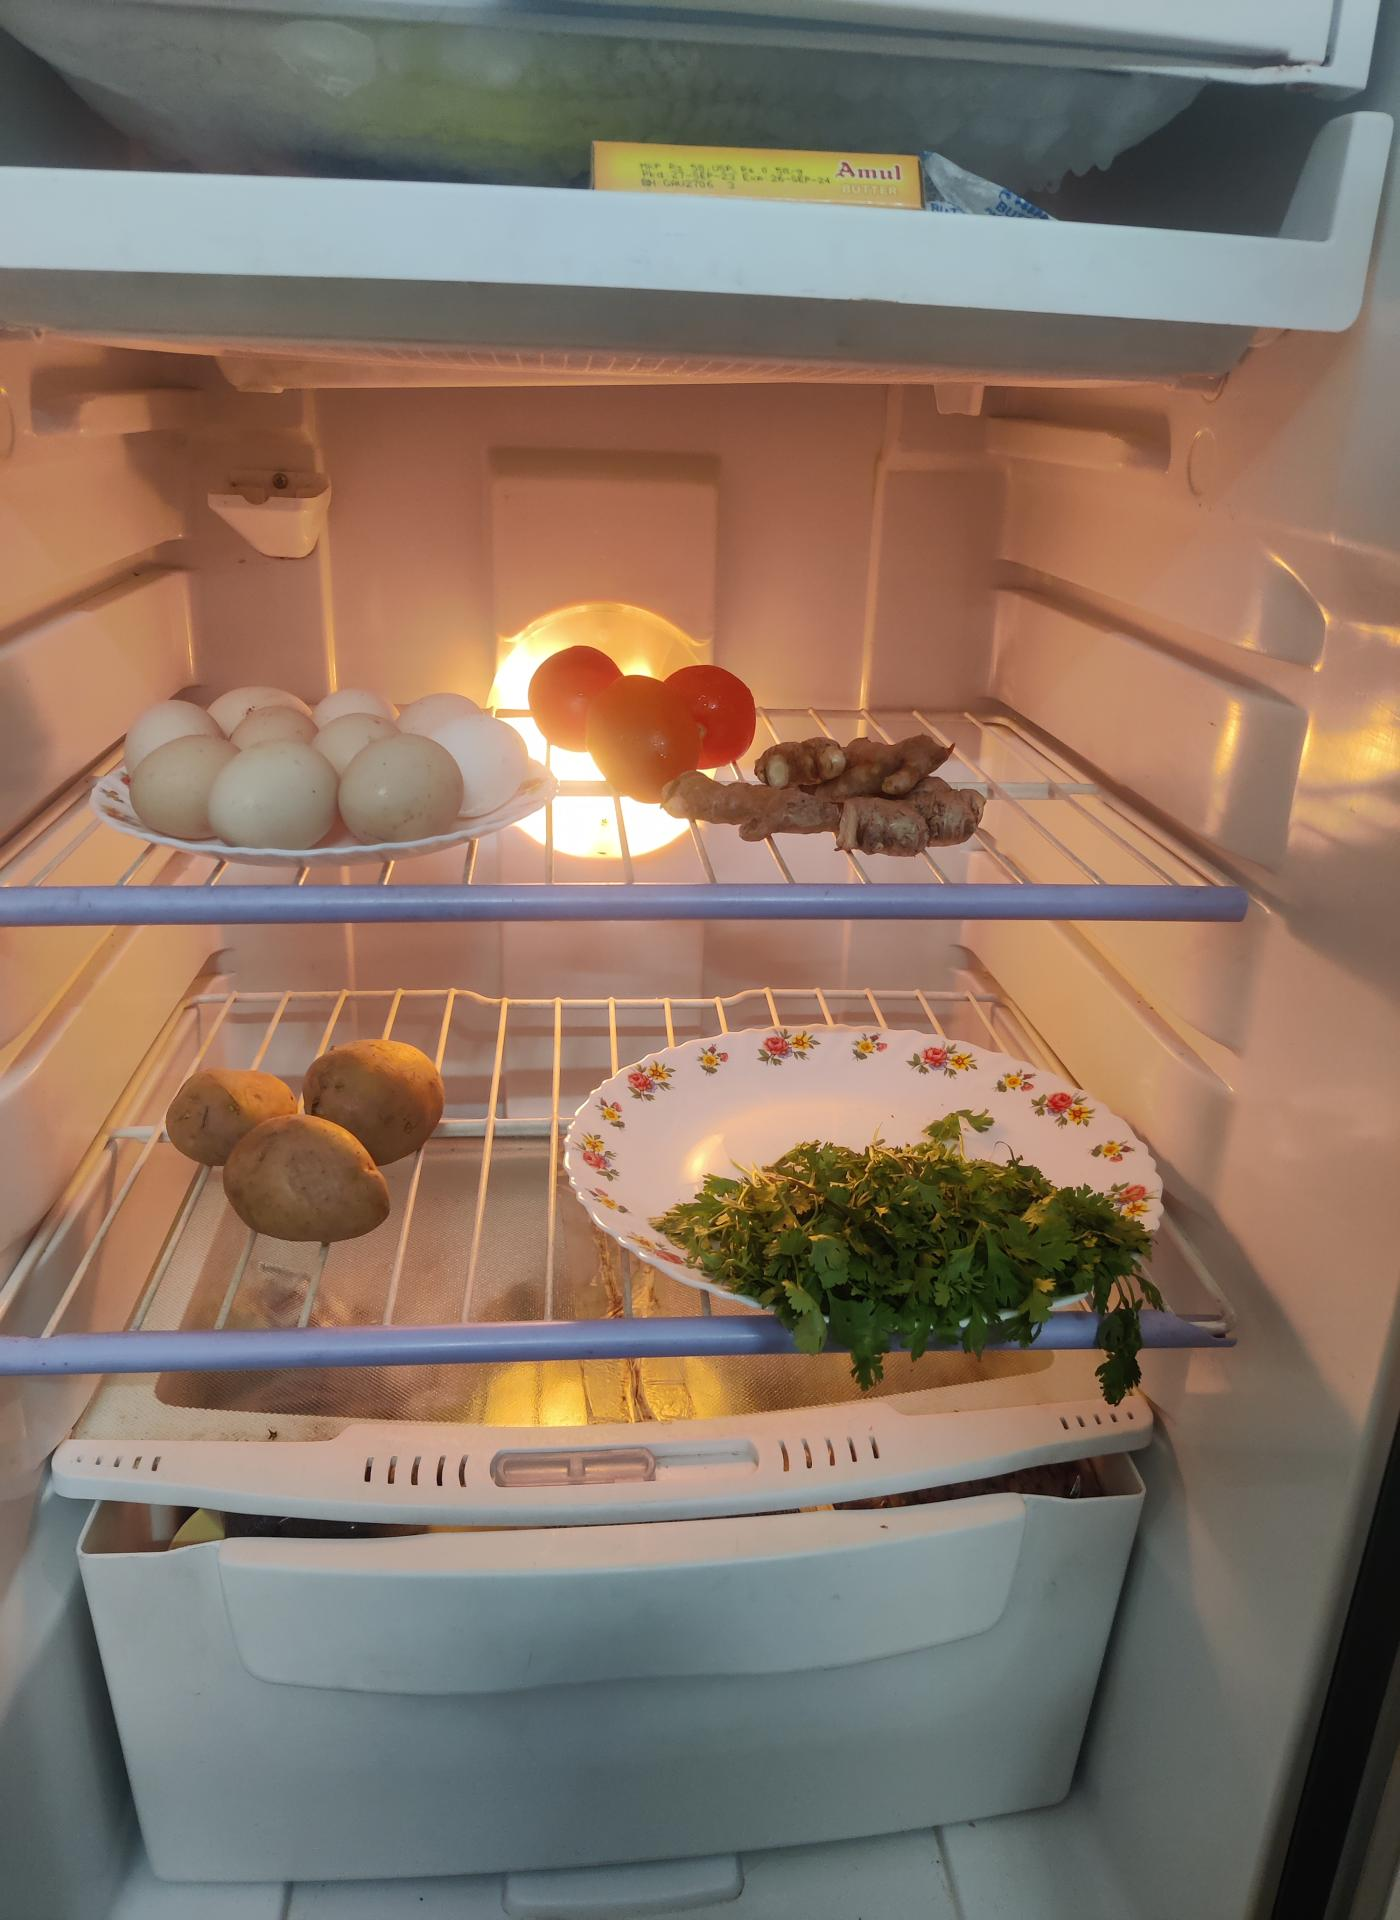coriander: (655, 1142, 1158, 1352)
egg: (124, 690, 534, 869)
ginger: (665, 723, 975, 851)
potato: (167, 1038, 444, 1248)
tomato: (526, 638, 760, 783)
